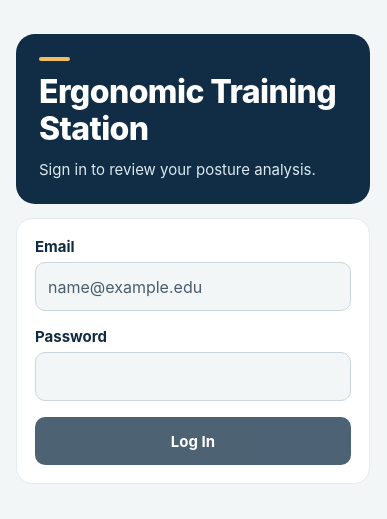
gives a friendly error for rejected credentials
Type "resident@example.test" into the field named "Email" at (193, 286), box [35, 262, 351, 311]
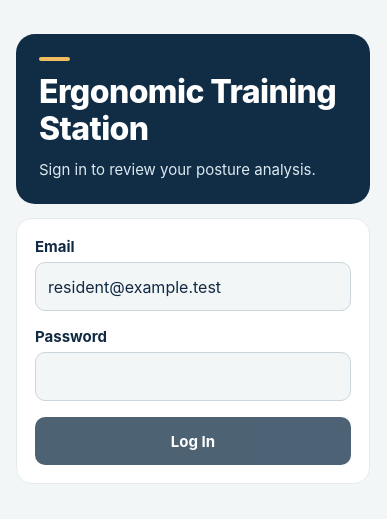
Type "example-only-password" into the password field named "Password" at (193, 376), box [35, 352, 351, 401]
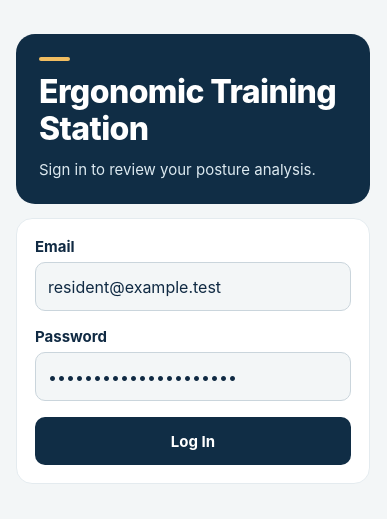
Click the button "Log In" at (193, 441), box [35, 417, 351, 465]
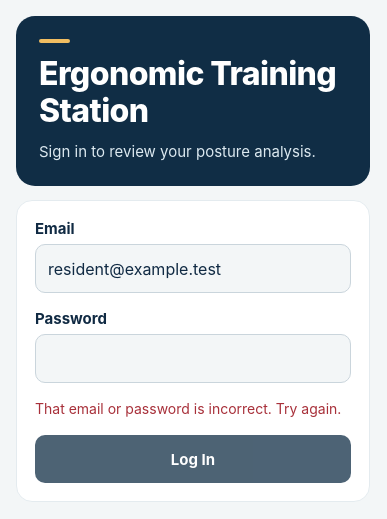
Now the text "That email or password is incorrect. Try again." is shown, box [35, 399, 351, 419]
